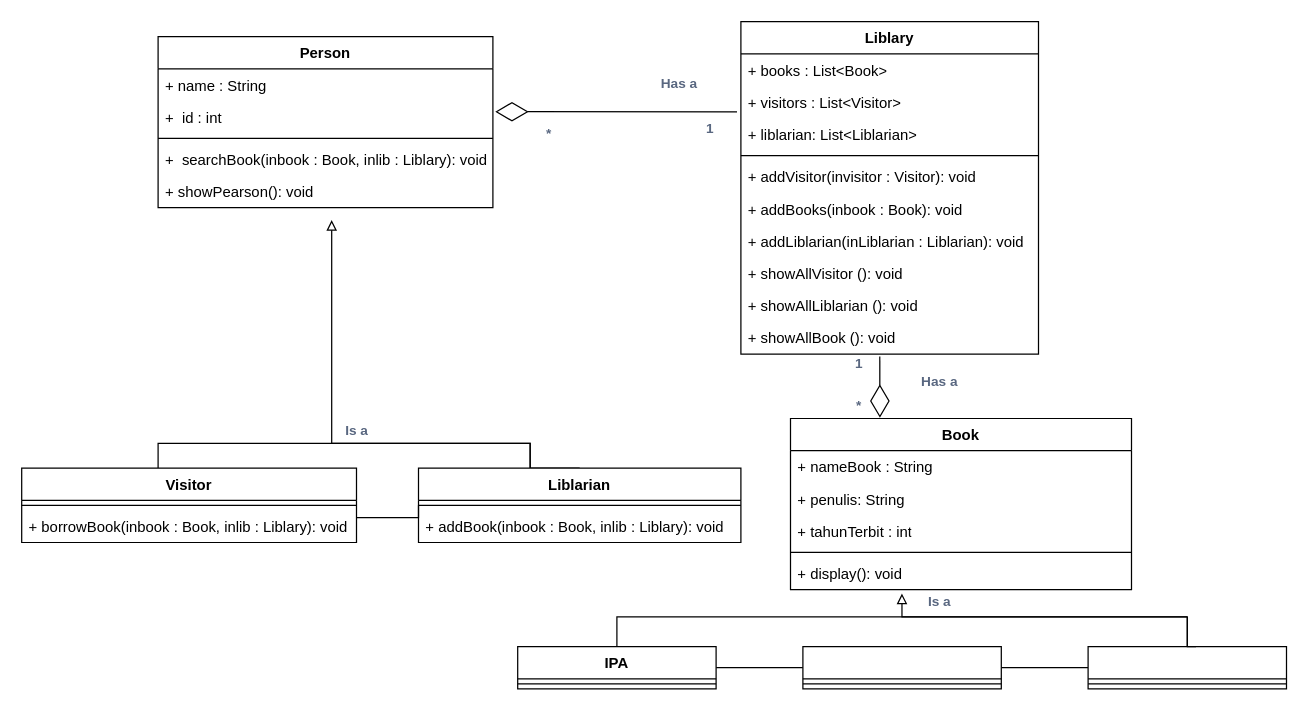
Some shapes in this 1308 by 711 pixel diagram are drawn without their labels. Here are the shapes that lost their labels. From the top down, the centre of each, then its label:
At point (901, 667): "IPS".
At point (1186, 667): "Matematika".
